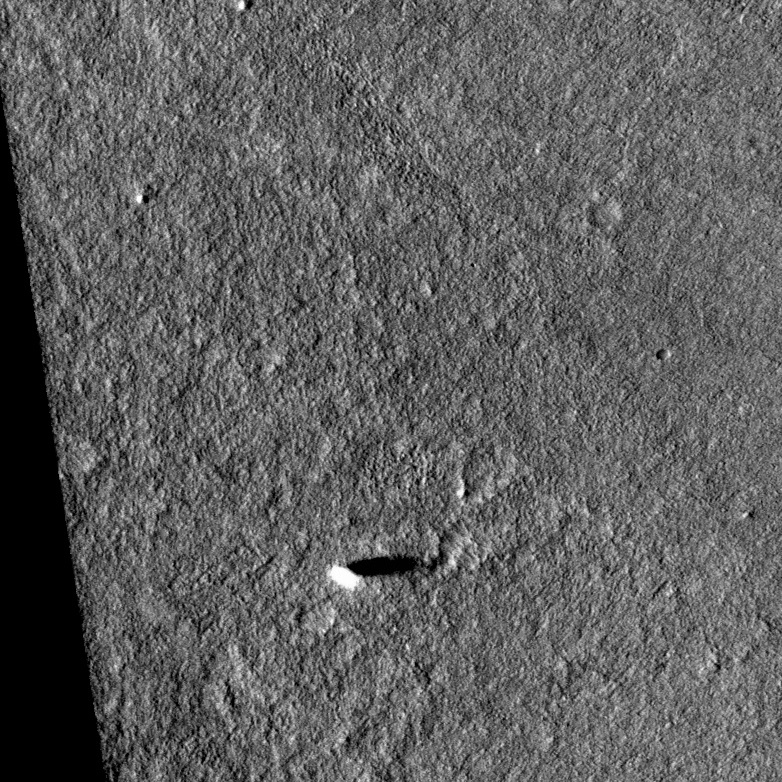dust_devil: (324, 551, 434, 591)
